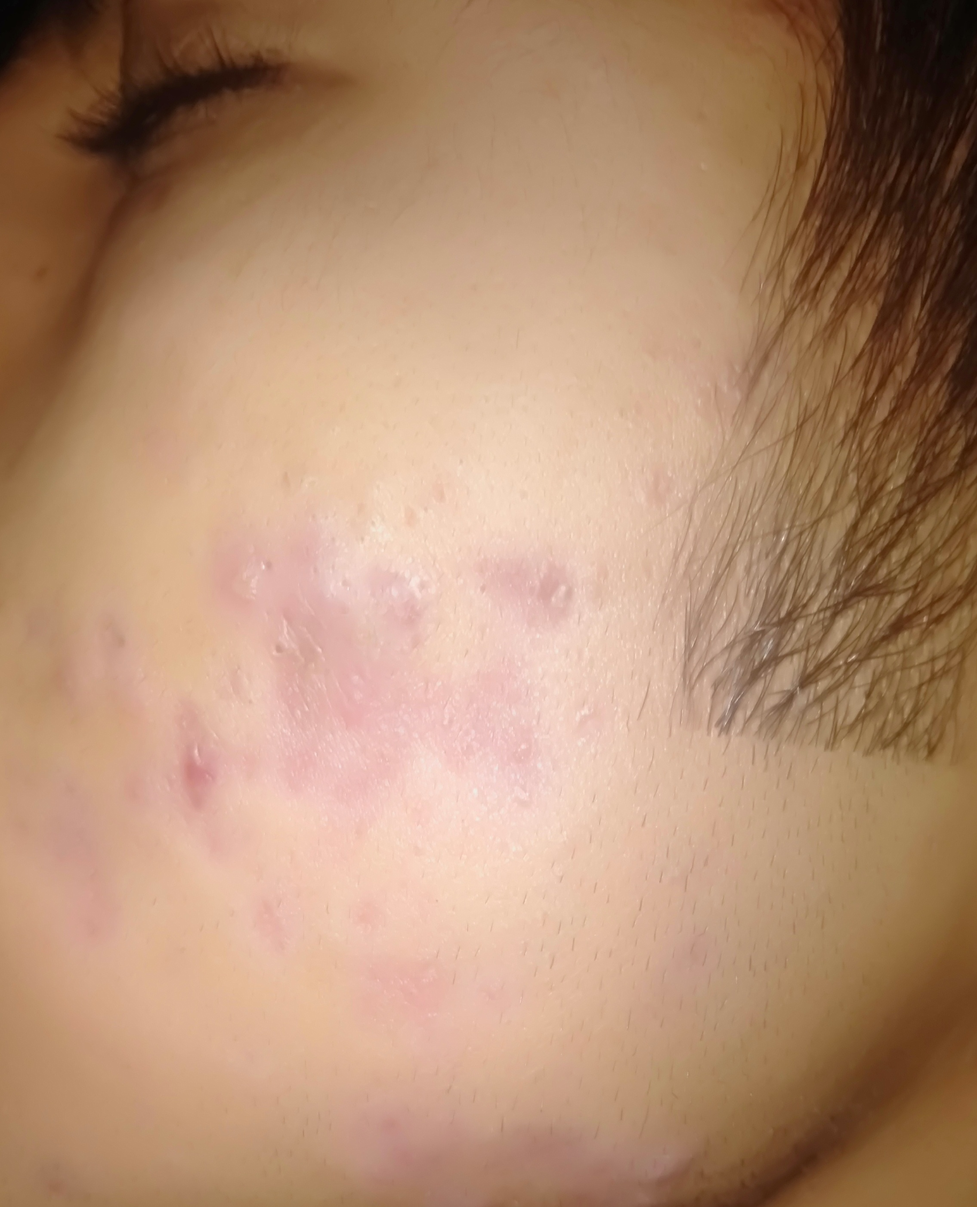papule: (141, 719, 249, 813), (509, 550, 591, 635), (364, 558, 426, 629), (201, 546, 268, 607)
